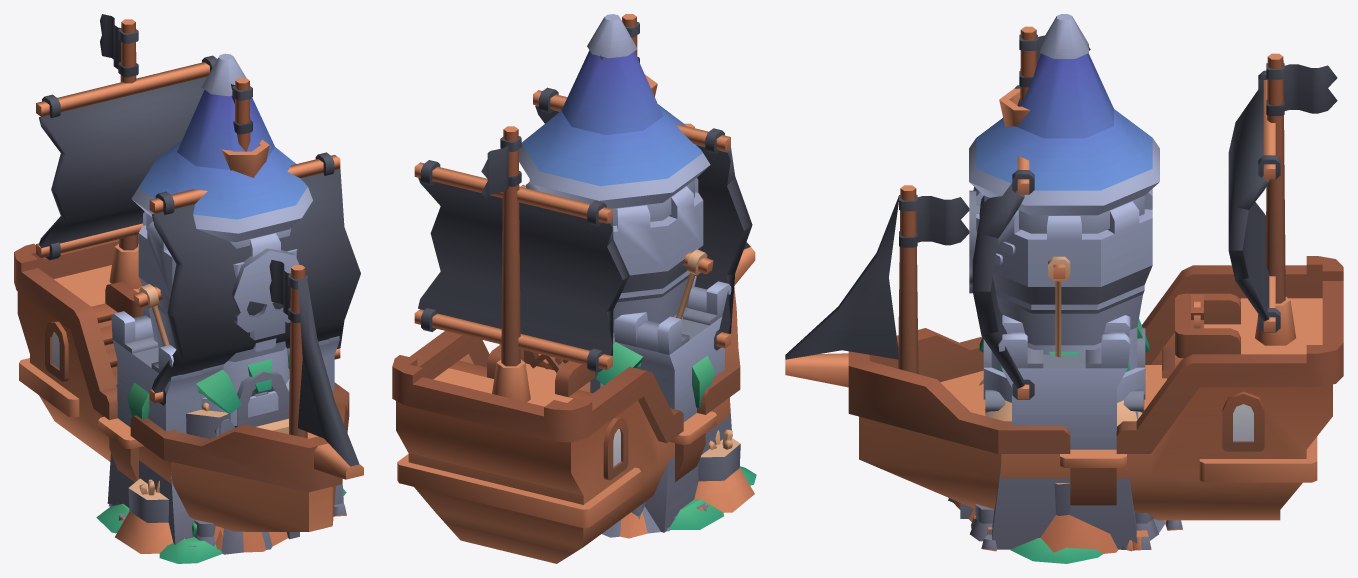
Rendered from pirate-kit.glb.
The picture shows the model from 3 angles, left to right: view 1: azimuth 30°, elevation 25°; view 2: azimuth 150°, elevation 25°; view 3: azimuth 270°, elevation 25°; orthographic projection. The views are drawn at different scales.
Parts seen in each view (by area): view 1: ship-pirate-medium, sail-a (×2), sail-b, tower-complete-large, castle-gate, tower-complete-small, rocks-sand-a, rocks-a, patch-grass-foliage, palm-detailed-bend, flag-c, flag-a (+4 smaller); view 2: ship-pirate-medium, sail-b, tower-complete-large, castle-gate, sail-a (×2), tower-complete-small, rocks-sand-a, palm-detailed-bend, flag-c, patch-grass-foliage, rocks-a, rocks-sand-b (+1 smaller); view 3: ship-pirate-medium, tower-complete-large, castle-gate, tower-complete-small, sail-b, sail-a, flag-a, flag-c, rocks-sand-a, patch-grass-foliage, rocks-a, structure-roof.
Part boxes in pixels (x1,y1,x2,y2): ship-pirate-medium: (14,19,363,531); sail-a (×2): (133,152,360,405); sail-b: (36,55,217,260); tower-complete-large: (131,53,312,427); castle-gate: (107,306,343,546); tower-complete-small: (138,211,299,539); rocks-sand-a: (115,402,346,553); rocks-a: (116,413,346,522); patch-grass-foliage: (96,488,346,563); palm-detailed-bend: (127,369,241,419); flag-c: (100,14,138,77); flag-a: (269,260,308,323); ship-pirate-medium: (392,14,755,563); sail-b: (414,160,629,372); tower-complete-large: (519,14,710,392); castle-gate: (499,276,731,532); sail-a (×2): (520,87,752,350); tower-complete-small: (524,178,703,387); rocks-sand-a: (694,429,754,512); palm-detailed-bend: (596,342,714,407); flag-c: (481,136,521,200); patch-grass-foliage: (669,466,756,529); rocks-a: (674,444,740,519); rocks-sand-b: (620,504,708,538); ship-pirate-medium: (785,26,1343,520); tower-complete-large: (969,14,1159,399); castle-gate: (970,315,1158,549); tower-complete-small: (960,189,1152,518); sail-b: (1228,70,1280,332); sail-a: (969,85,1034,399); flag-a: (899,195,969,247); flag-c: (1266,63,1337,115); rocks-sand-a: (953,483,1182,553); patch-grass-foliage: (1010,538,1102,563); rocks-a: (976,483,1182,550); structure-roof: (979,374,1149,426).
Bounding box in the file's own units: 5.33 × 10.56 × 10.6.
1 material, 1 textured.
